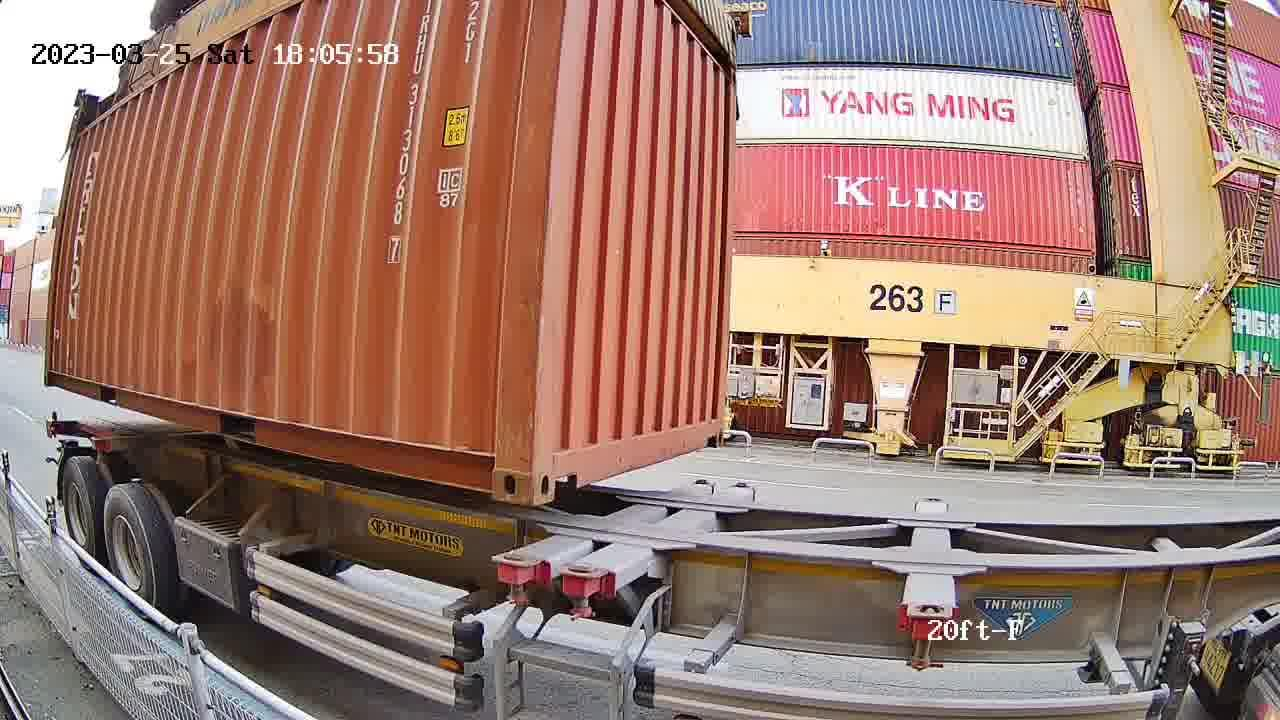Chassis: (493, 480, 716, 566), (565, 486, 753, 579)
Cone: (491, 549, 544, 606), (564, 563, 617, 619)
Hole_L: (531, 427, 587, 507)
Hole_R: (458, 426, 534, 506), (697, 411, 725, 449)
Tire: (105, 488, 153, 611), (61, 463, 97, 563)
